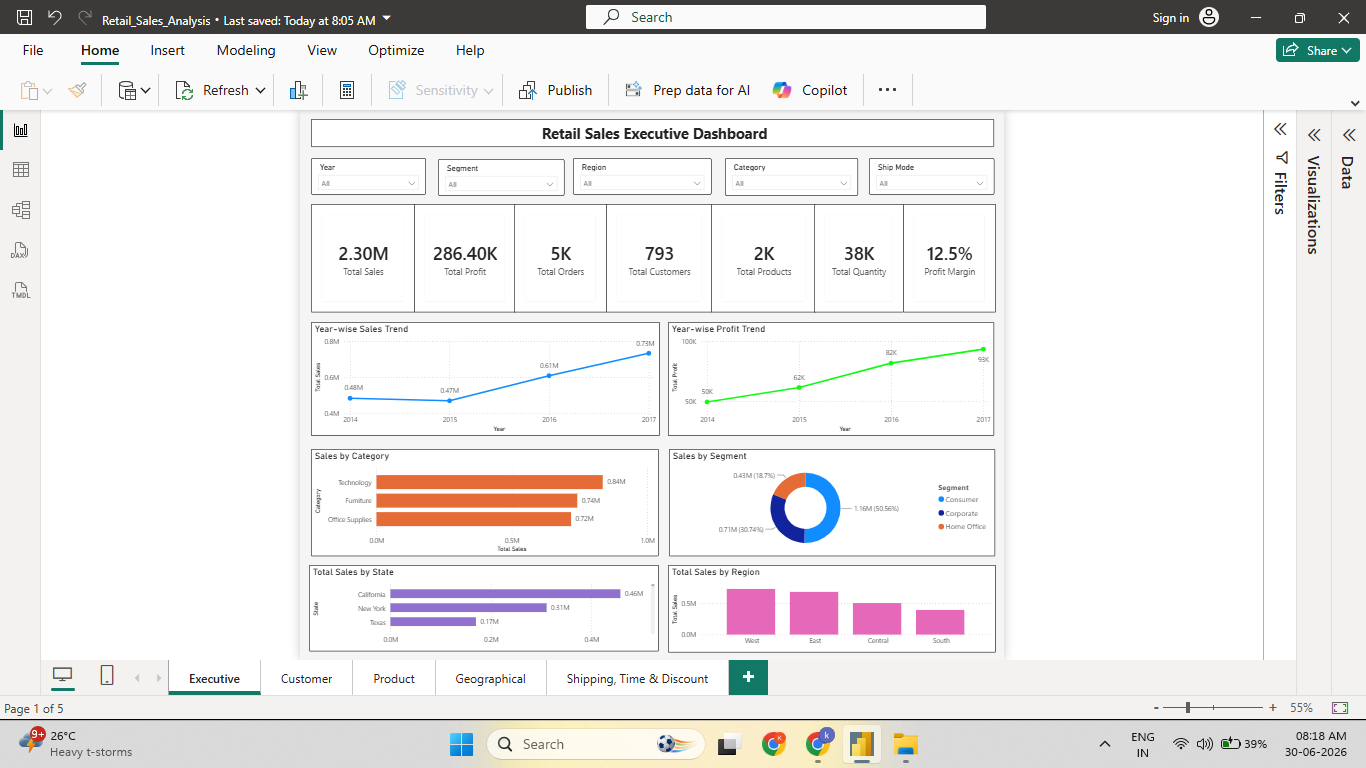

The dashboard page shown, as its layout file describes it:
{"tool":"powerbi","page":{"name":"Executive","canvas":[1280,1000],"ordinal":0},"visuals":[{"type":"cardVisual","fields":{"Data":["Measures (2).Total Sales"]},"box":[20.3,170.7,189,197.2],"z":0},{"type":"cardVisual","fields":{"Data":["Measures (2).Total Profit"]},"box":[207,170.7,185,197.2],"z":1000},{"type":"cardVisual","fields":{"Data":["Measures (2).Total Orders"]},"box":[389.6,170.7,168.7,197.2],"z":2000},{"type":"cardVisual","fields":{"Data":["Measures (2).Total Customers"]},"box":[555.9,170.7,193.1,197.2],"z":3000},{"type":"cardVisual","fields":{"Data":["Measures (2).Total Products"]},"box":[746.6,170.7,191.1,197.2],"z":4000},{"type":"cardVisual","fields":{"Data":["Measures (2).Total Quantity"]},"box":[935.3,170.7,162.6,197.2],"z":5000},{"type":"cardVisual","fields":{"Data":["Measures (2).Profit Margin"]},"box":[1095.5,170.7,168.7,197.2],"z":6000},{"type":"lineChart","title":"Year-wise Sales Trend","fields":{"Category":["orders.Order Date.Variation.Date Hierarchy.Year"],"Y":["Measures (2).Total Sales"]},"box":[20.3,386.2,634.1,207.3],"z":7000},{"type":"lineChart","title":"Year-wise Profit Trend","fields":{"Category":["orders.Order Date.Variation.Date Hierarchy.Year"],"Y":["Measures (2).Total Profit"]},"box":[668.7,386.2,593.5,207.3],"z":8000},{"type":"barChart","title":"Sales by Category","fields":{"Category":["orders.Category"],"Y":["Measures (2).Total Sales"]},"box":[20.3,615.9,632.1,195.1],"z":9000},{"type":"donutChart","title":"Sales by Segment","fields":{"Category":["orders.Segment"],"Y":["Measures (2).Total Sales"]},"box":[670.7,615.9,593.5,195.1],"z":10000},{"type":"barChart","fields":{"Category":["orders.State"],"Y":["Measures (2).Total Sales"]},"box":[16.3,827.2,636.2,156.5],"z":11000},{"type":"clusteredColumnChart","fields":{"Category":["orders.Region"],"Y":["Measures (2).Total Sales"]},"box":[668.7,827.2,595.5,158.5],"z":12000},{"type":"slicer","fields":{"Values":["orders.Order Date.Variation.Date Hierarchy.Year"]},"box":[20.3,87.4,209.3,67.1],"z":13000},{"type":"slicer","fields":{"Values":["orders.Segment"]},"box":[250,89.4,229.7,67.1],"z":14000},{"type":"slicer","fields":{"Values":["orders.Region"]},"box":[495.9,87.4,252,67.1],"z":15000},{"type":"slicer","fields":{"Values":["orders.Category"]},"box":[772.4,87.4,241.9,69.1],"z":16000},{"type":"slicer","fields":{"Values":["orders.Ship Mode"]},"box":[1034.6,87.4,227.6,67.1],"z":17000},{"type":"textbox","box":[20.3,16.3,1241.9,50.8],"z":18000}]}

Visuals, with their boxes on the page's 1280x1000 design canvas (x1, y1, x2, y2). These are canvas units, not pixel positions in the 1366x768 screenshot, which may show the page scaled, cropped or inside an application window:
cardVisual - Measures (2).Total Sales: <box>20,171,209,368</box>
cardVisual - Measures (2).Total Profit: <box>207,171,392,368</box>
cardVisual - Measures (2).Total Orders: <box>390,171,558,368</box>
cardVisual - Measures (2).Total Customers: <box>556,171,749,368</box>
cardVisual - Measures (2).Total Products: <box>747,171,938,368</box>
cardVisual - Measures (2).Total Quantity: <box>935,171,1098,368</box>
cardVisual - Measures (2).Profit Margin: <box>1096,171,1264,368</box>
"Year-wise Sales Trend" lineChart: <box>20,386,654,594</box>
"Year-wise Profit Trend" lineChart: <box>669,386,1262,594</box>
"Sales by Category" barChart: <box>20,616,652,811</box>
"Sales by Segment" donutChart: <box>671,616,1264,811</box>
barChart - orders.State x Measures (2).Total Sales: <box>16,827,652,984</box>
clusteredColumnChart - orders.Region x Measures (2).Total Sales: <box>669,827,1264,986</box>
slicer - orders.Order Date.Variation.Date Hierarchy.Year: <box>20,87,230,154</box>
slicer - orders.Segment: <box>250,89,480,156</box>
slicer - orders.Region: <box>496,87,748,154</box>
slicer - orders.Category: <box>772,87,1014,156</box>
slicer - orders.Ship Mode: <box>1035,87,1262,154</box>
textbox: <box>20,16,1262,67</box>
